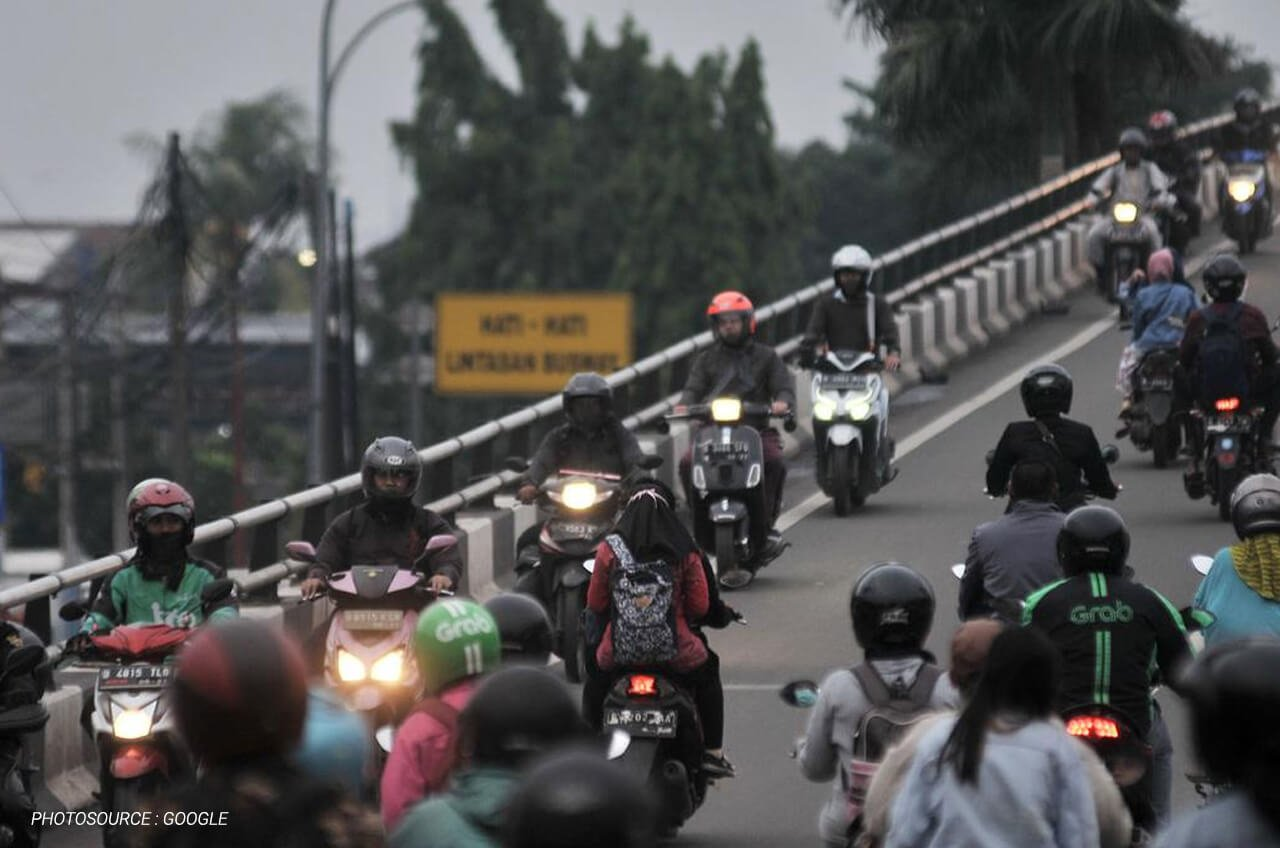motor: (64, 624, 187, 842), (664, 407, 791, 582), (307, 563, 426, 733), (529, 480, 625, 664), (791, 349, 896, 517)
